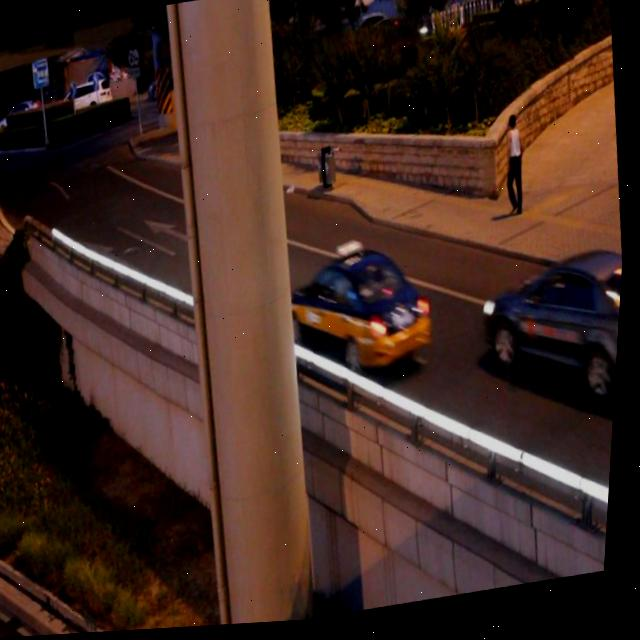car: (480, 257, 627, 418), (281, 242, 441, 383)
